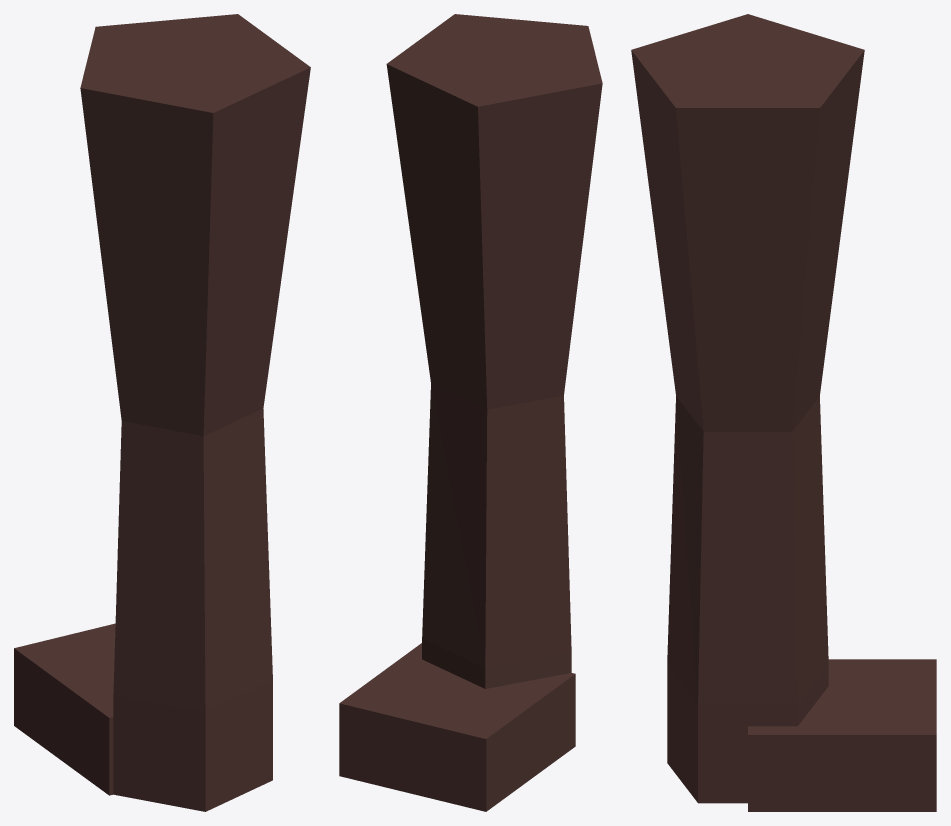
File: animal_warg_leg.obj
3 views of the same model, side by side, from view 1: azimuth 30°, elevation 25°; view 2: azimuth 150°, elevation 25°; view 3: azimuth 270°, elevation 25° (orthographic). The views are drawn at different scales.
Visible parts, largest first — view 1: animal_warg_leg; view 2: animal_warg_leg; view 3: animal_warg_leg.
Boxes of the visible parts, left/top/right/bottom form: animal_warg_leg: left=14, top=14, right=310, bottom=811; animal_warg_leg: left=339, top=14, right=602, bottom=811; animal_warg_leg: left=631, top=14, right=936, bottom=811.
Size of the model in its own units: 0.1702 by 0.5988 by 0.2342.
